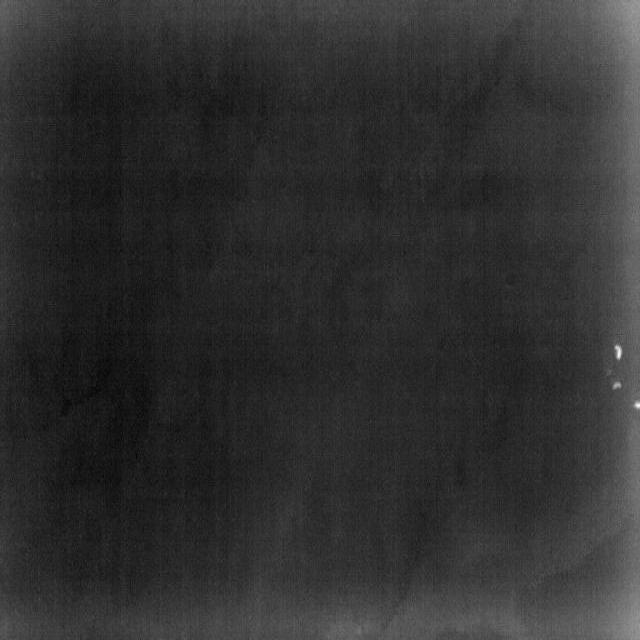deer: (614, 344, 623, 361), (612, 380, 623, 391), (633, 400, 640, 410)
